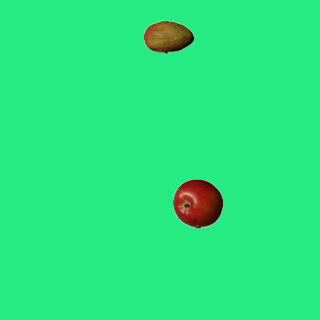Apple Braeburn: (172, 178, 222, 228)
Papaya: (143, 12, 193, 62)
